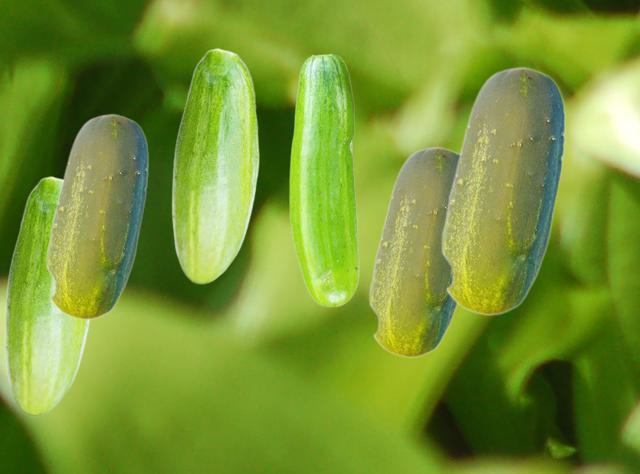cucumber: (440, 66, 564, 315), (45, 113, 147, 319), (4, 176, 91, 415), (171, 48, 258, 283), (368, 146, 458, 357), (289, 53, 358, 306)
